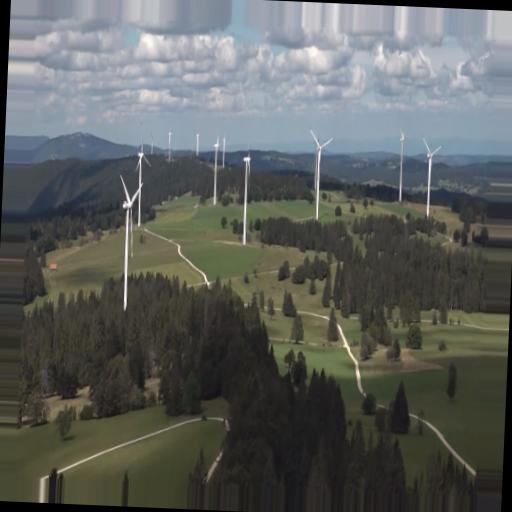wind turbine: (119, 175, 144, 312), (309, 130, 336, 217), (422, 137, 444, 218), (241, 147, 254, 244), (397, 129, 408, 202)
